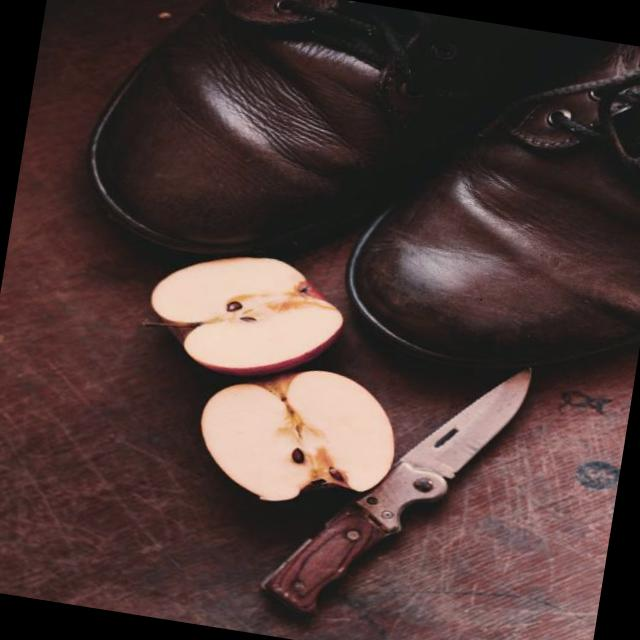Knife: (264, 370, 530, 613)
